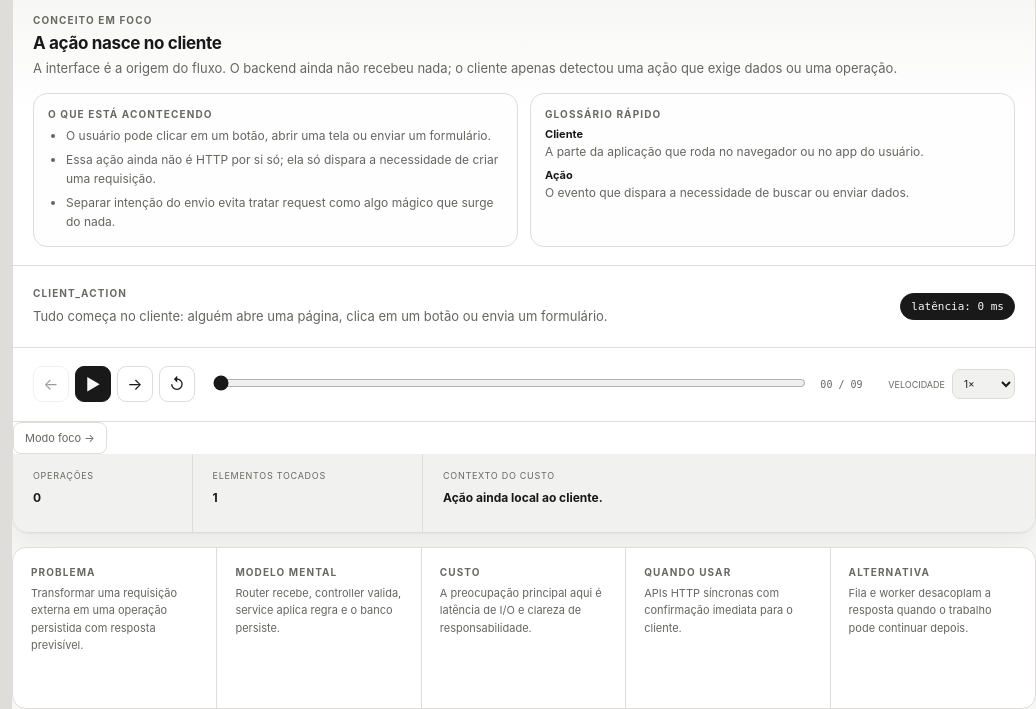
Test: LessonPlayer › mostra um conceito em foco na lição de backend request
(page scrolled)
Click the button named "Próximo passo" at {"x": 135, "y": 384}, box [117, 366, 153, 402]
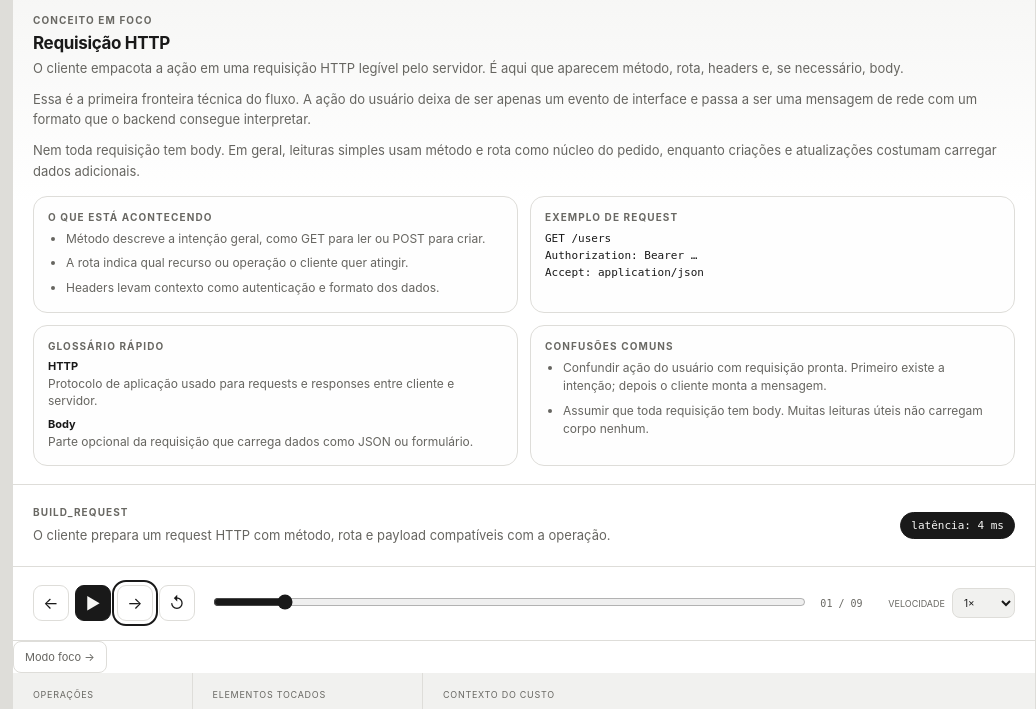
Check: the element labelled "Conceito em foco" shows "Requisição HTTP", box [33, 33, 170, 53]
Check: the text "método, rota, headers" is shown, box [33, 60, 904, 76]
Click the button named "Próximo passo" at {"x": 135, "y": 603}, box [117, 585, 153, 621]
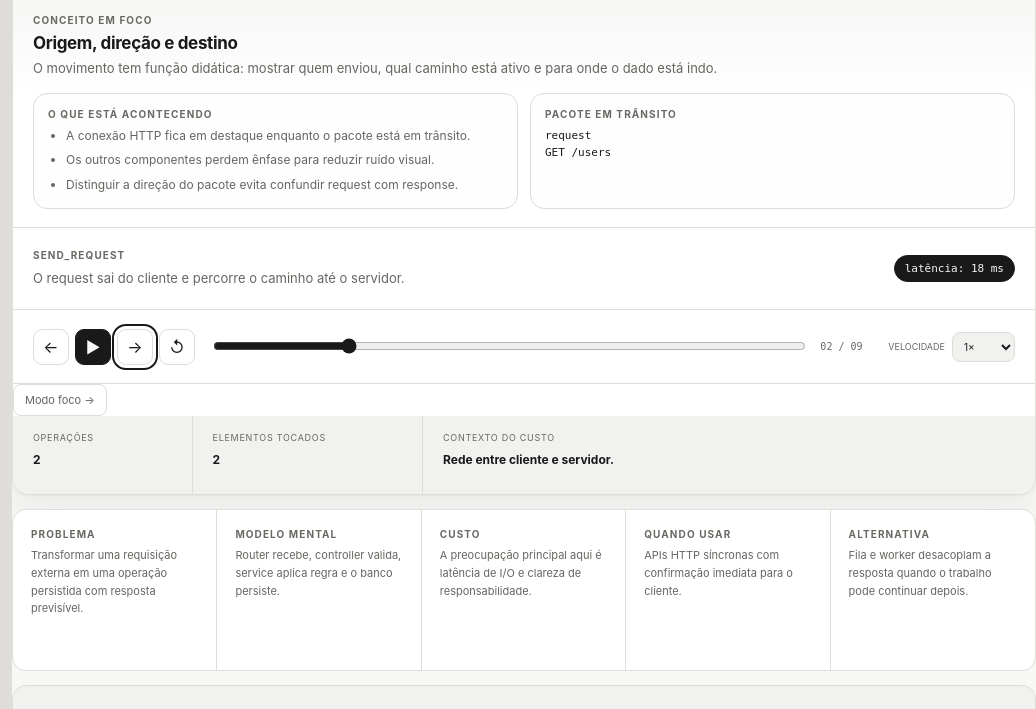
Click the button named "Próximo passo" at {"x": 135, "y": 347}, box [117, 329, 153, 365]
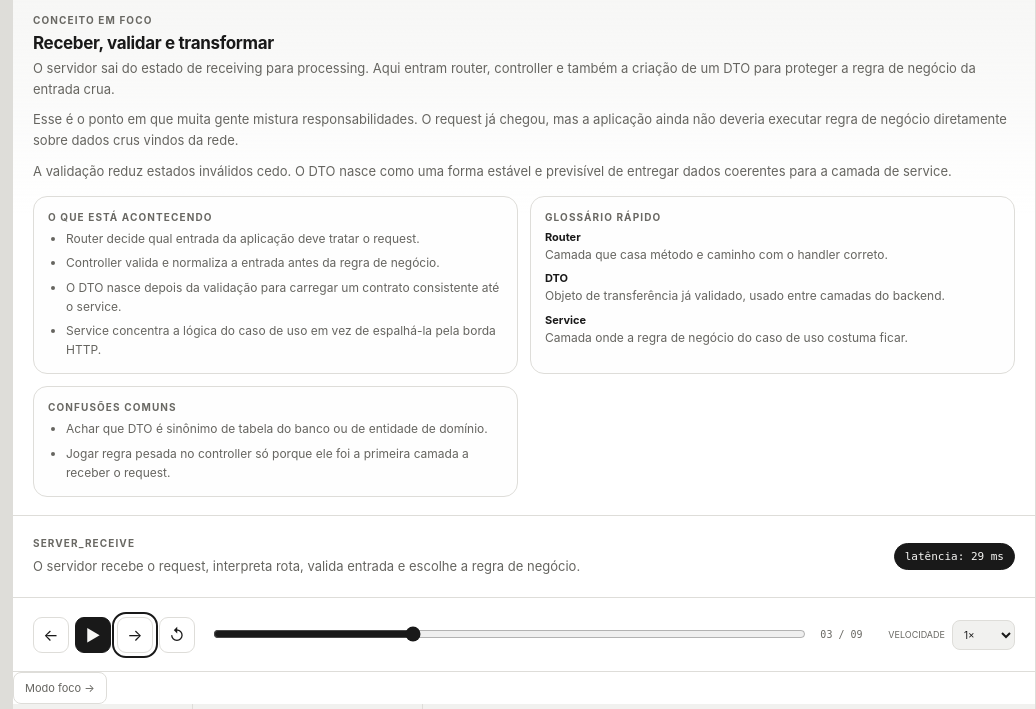
Check: the element labelled "Conceito em foco" shows "Receber, validar e transformar", box [33, 33, 274, 53]
Check: the list item "DTO nasce depois da validação" is shown, box [66, 280, 499, 314]
